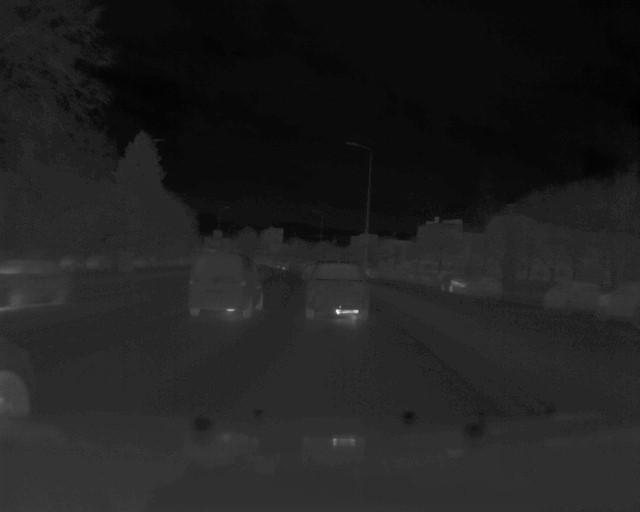car: (187, 251, 267, 321), (301, 259, 373, 322)
